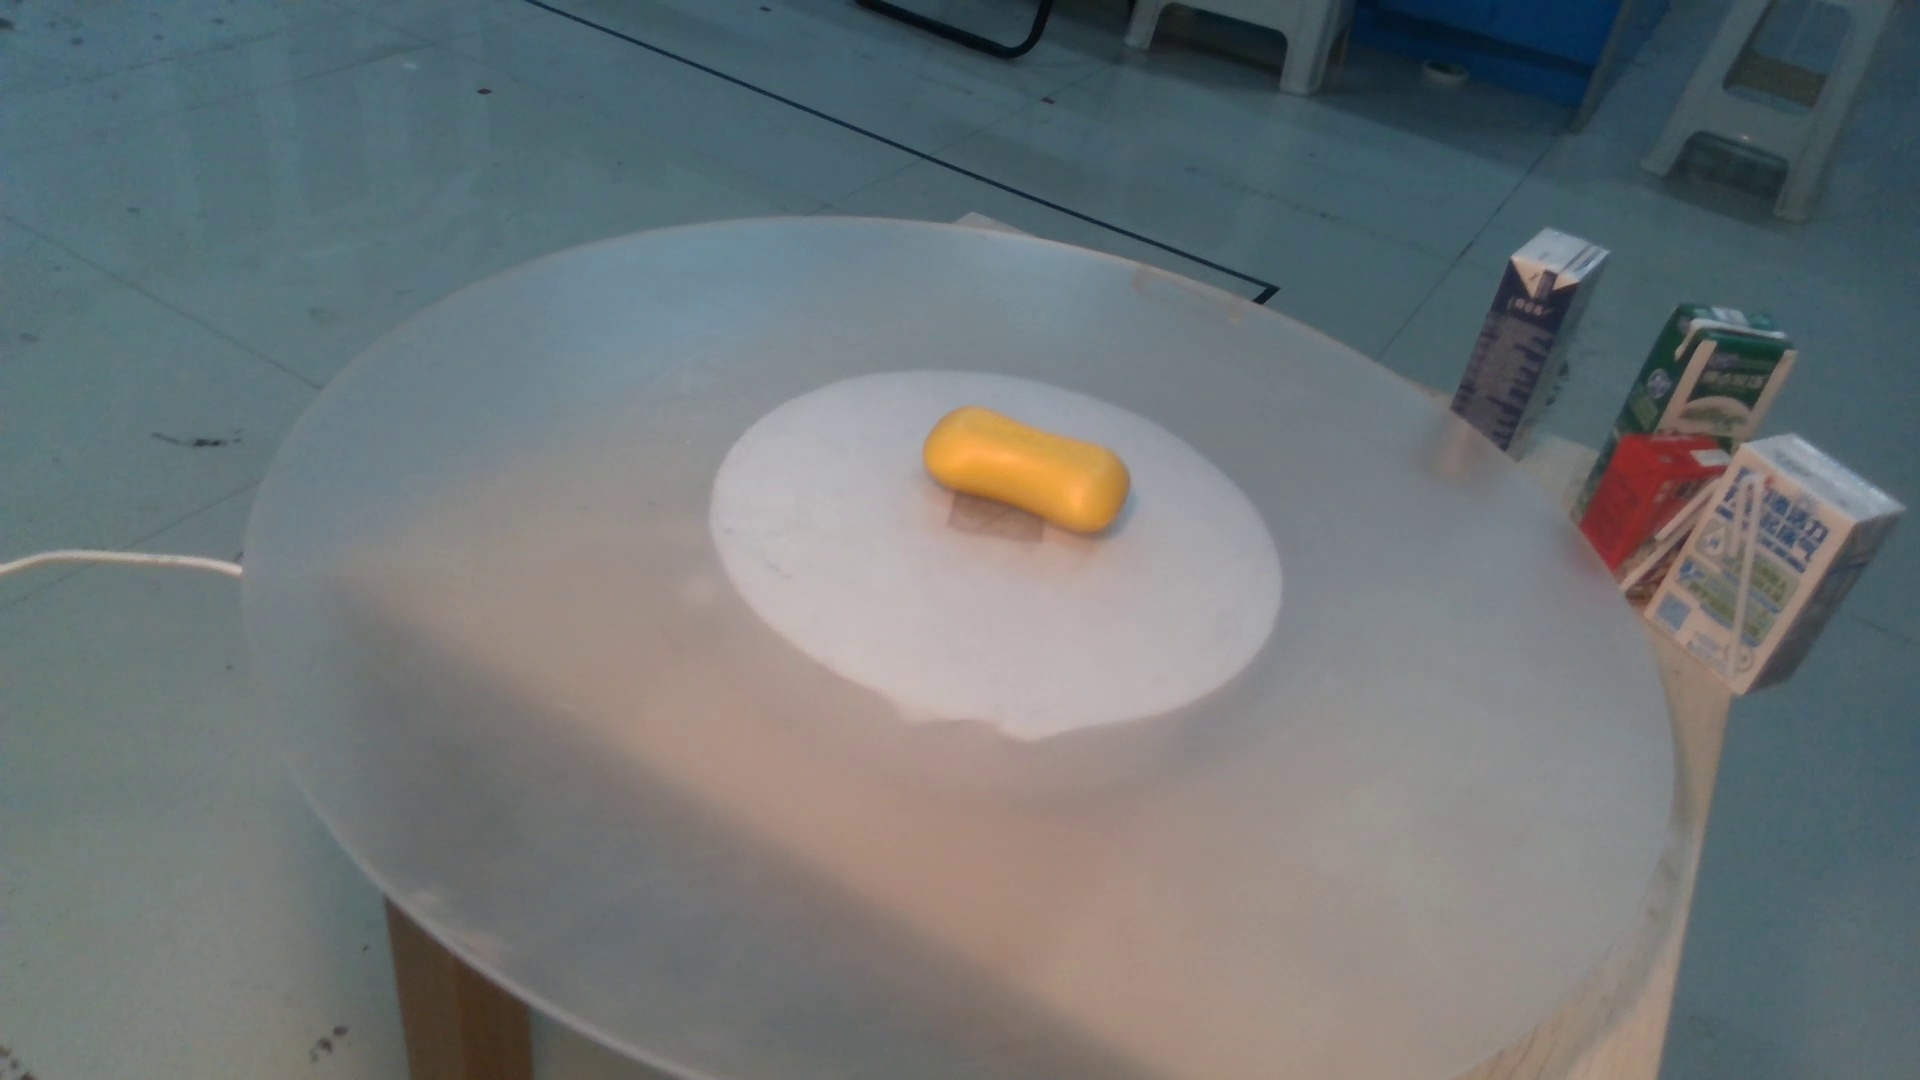CA003_1: (891, 392, 1174, 571)
